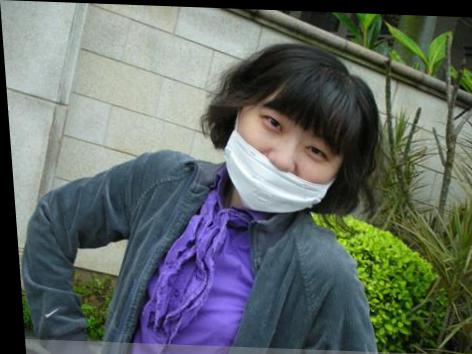WRONG: (222, 102, 332, 209)
